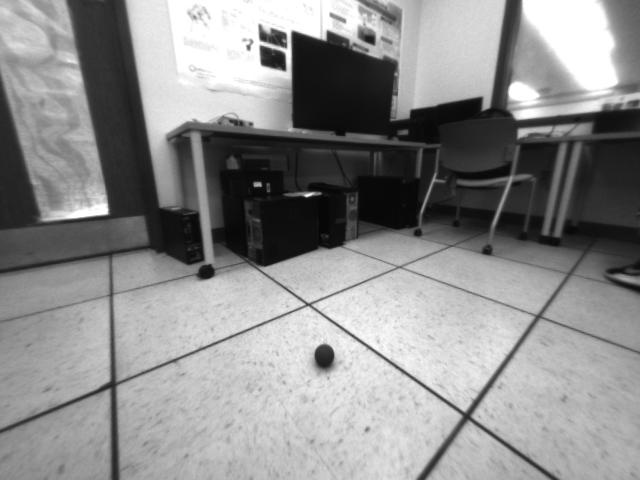dogtoy: (309, 340, 345, 375)
